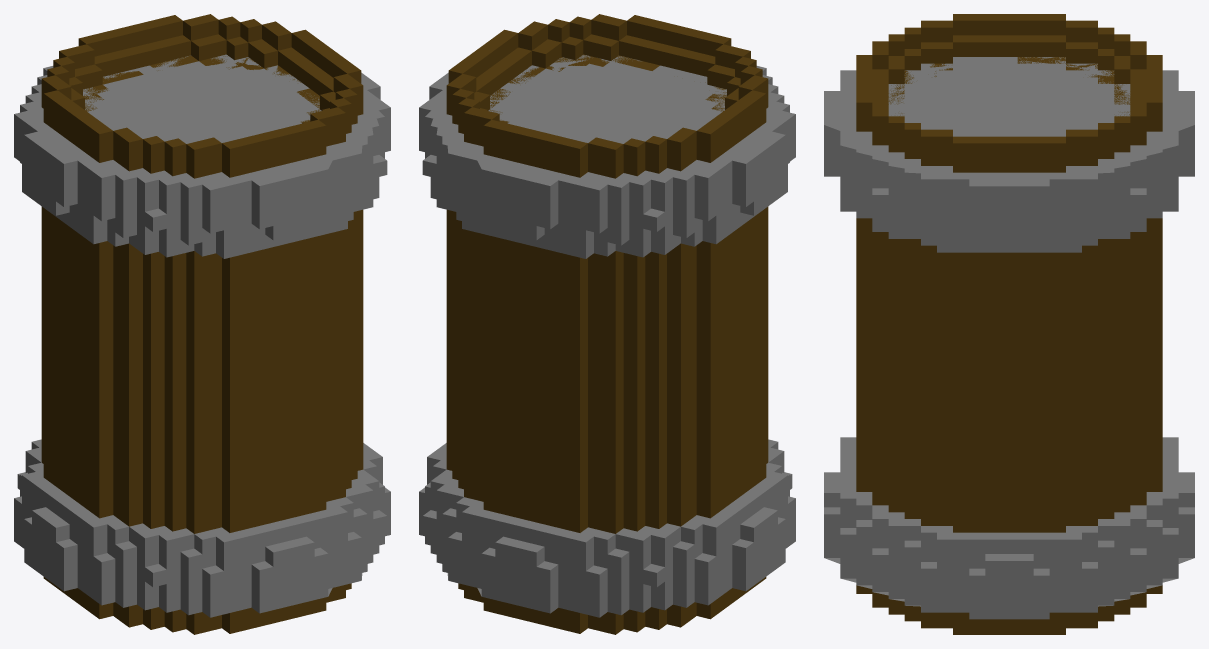
Rendered from wooden_Barrel.fbx.
3 views of the same model, side by side, from view 1: azimuth 30°, elevation 25°; view 2: azimuth 150°, elevation 25°; view 3: azimuth 270°, elevation 25° (orthographic).
Parts seen in each view (by area): view 1: Cylinder.001; view 2: Cylinder.001; view 3: Cylinder.001.
Part boxes in pixels (x1,y1,x2,y2): Cylinder.001: (14,14,390,634); Cylinder.001: (419,14,795,634); Cylinder.001: (824,14,1194,634).
Size of the model in its own units: 517 by 756 by 517.
